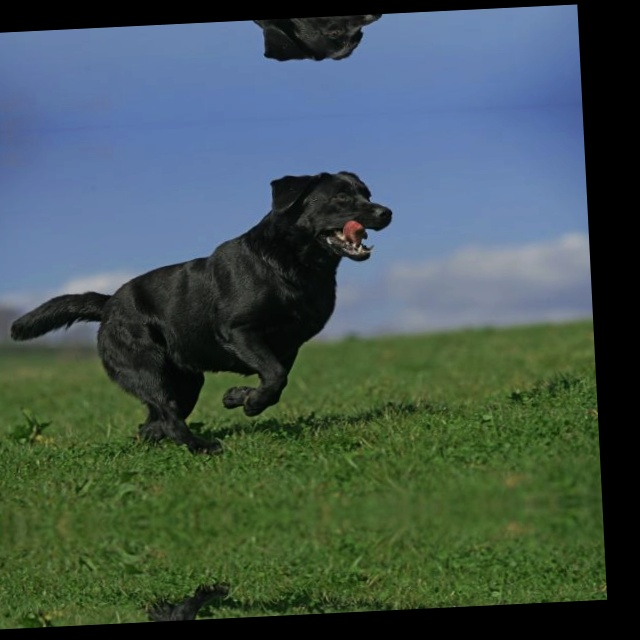dog: (13, 146, 426, 465), (6, 13, 407, 97), (34, 572, 433, 628)
